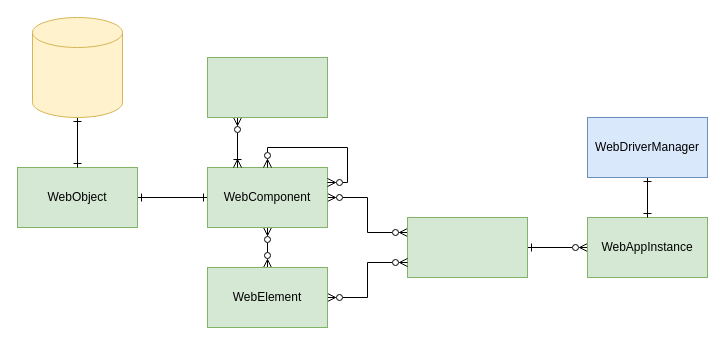
This 725x345 diagram has some shape labels left out. Each missing label, with the box of its shape:
WebComponentList: (206, 56, 328, 118)
WebPage: (406, 216, 528, 278)
WOProps: (32, 16, 122, 118)
